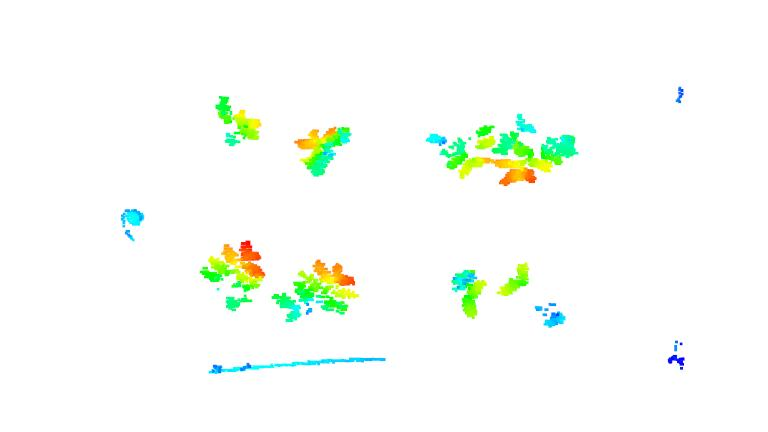chickpea: (497, 109, 580, 190), (273, 254, 361, 325), (199, 238, 266, 320), (426, 120, 502, 185), (211, 94, 268, 155), (293, 122, 355, 178), (447, 270, 489, 319), (500, 260, 535, 297)
